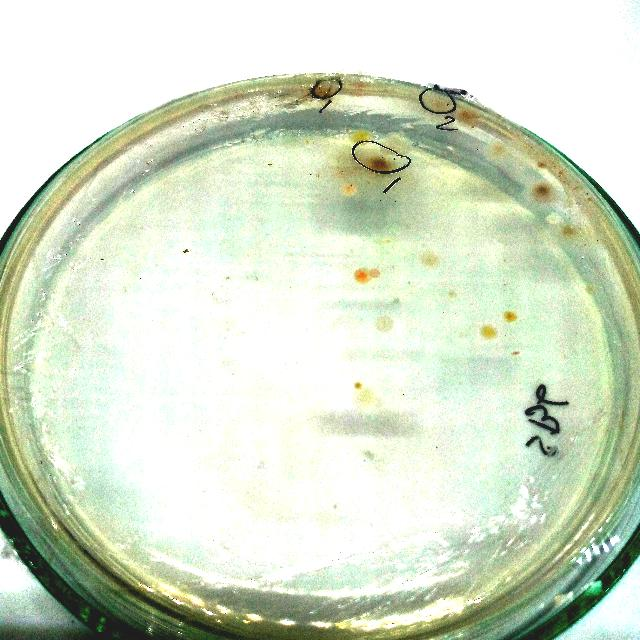colony: (349, 263, 383, 289), (416, 245, 446, 273), (364, 153, 392, 179), (485, 136, 511, 162), (527, 179, 555, 203), (312, 80, 338, 104), (427, 92, 448, 118), (374, 312, 396, 334), (458, 105, 478, 126), (478, 323, 500, 342), (349, 128, 371, 146), (340, 180, 360, 198), (560, 221, 578, 239), (502, 310, 518, 324), (351, 380, 365, 392)
